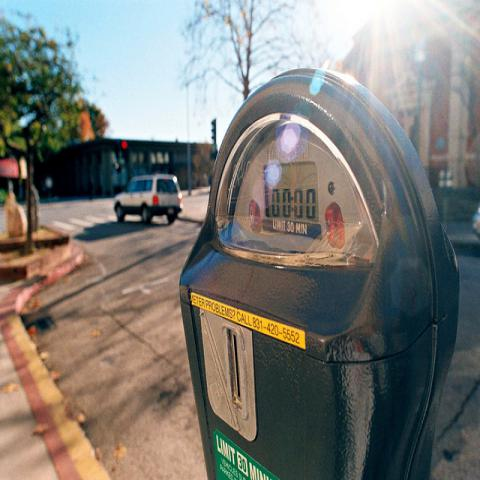car: (114, 175, 182, 226), (472, 210, 479, 243)
